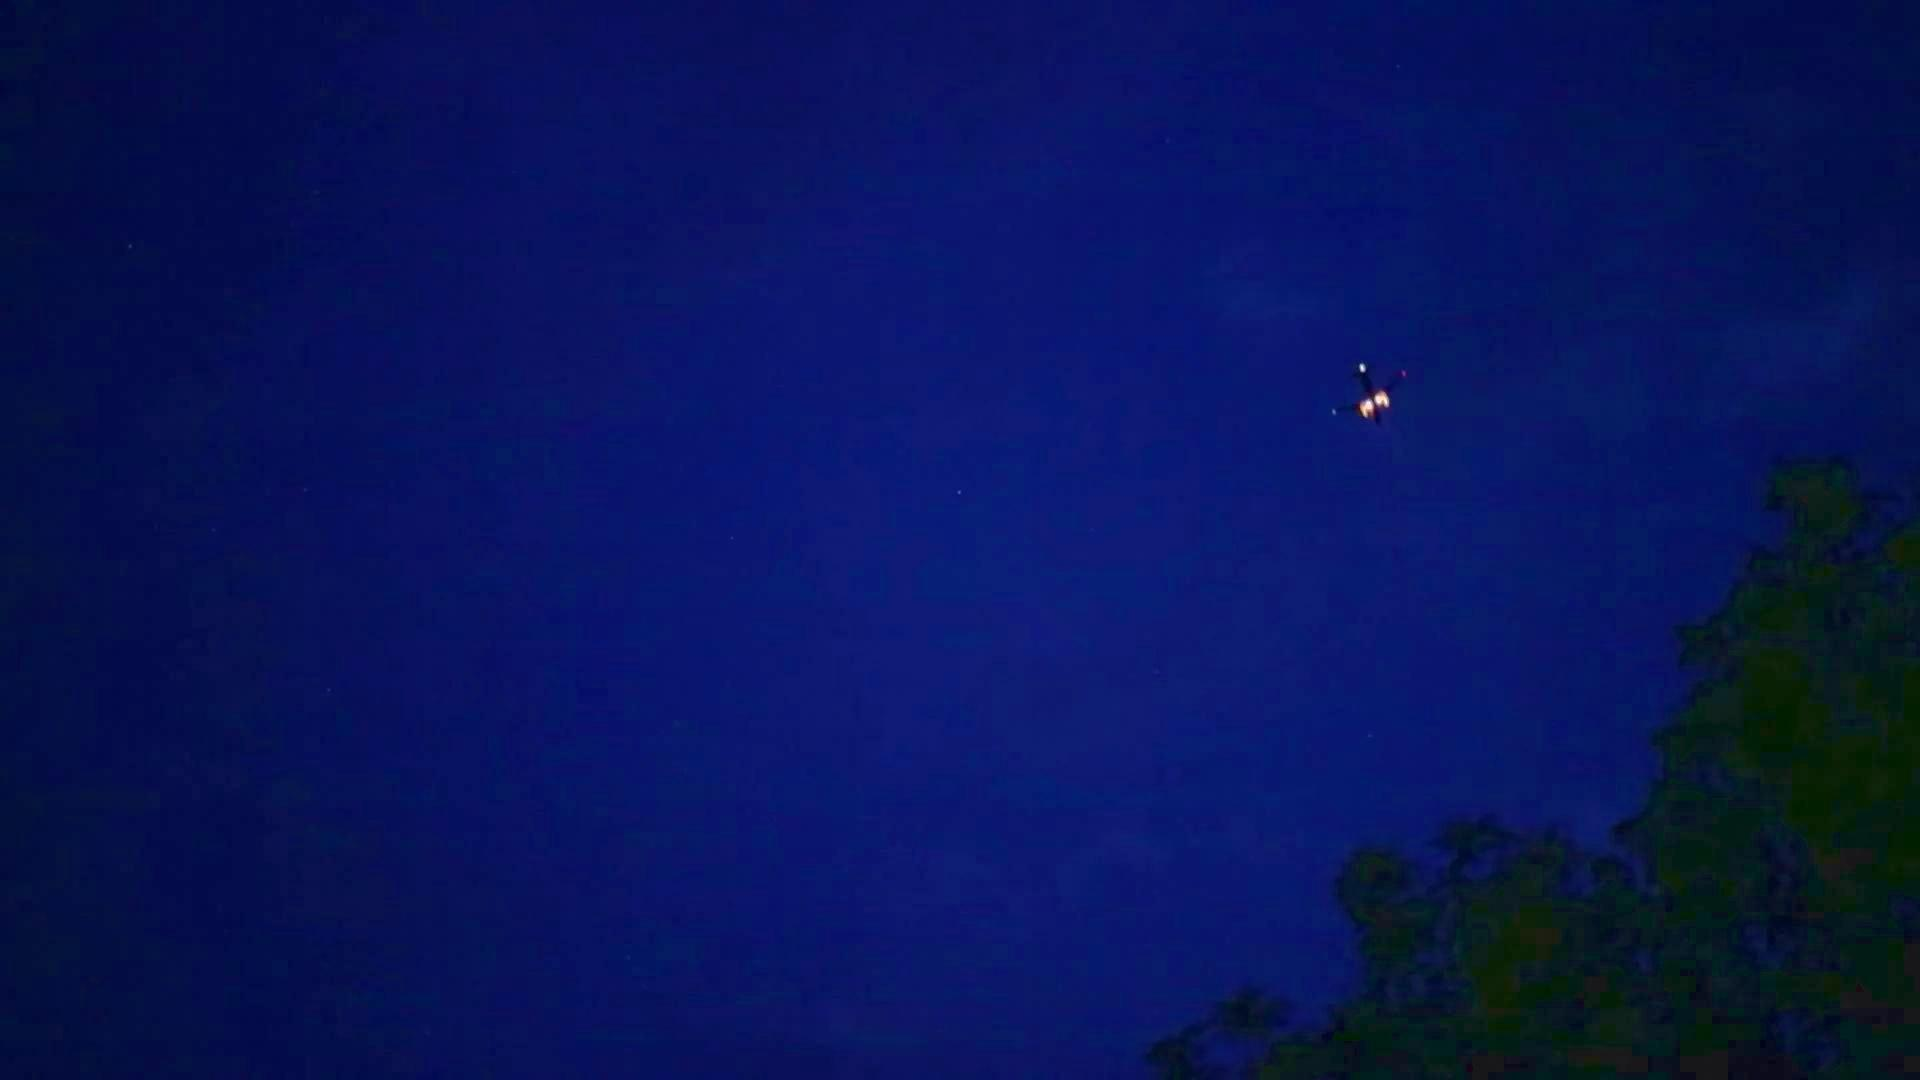Plane: (1324, 349, 1416, 438)
